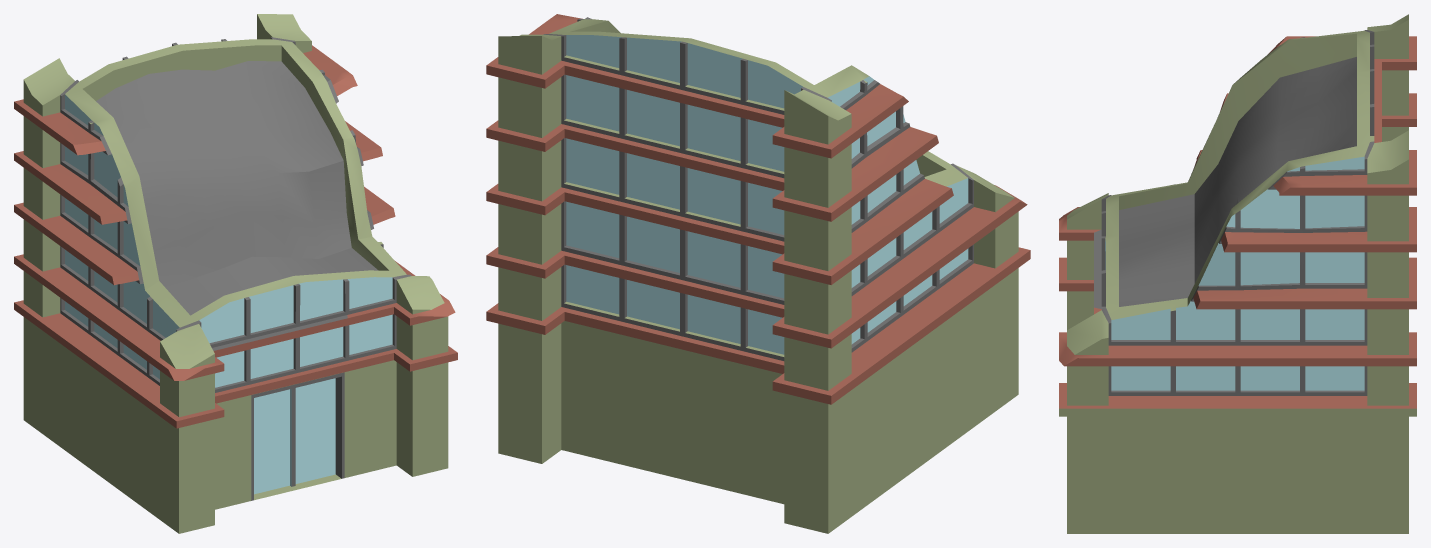
3 views of the same model, side by side, from view 1: azimuth 30°, elevation 25°; view 2: azimuth 150°, elevation 25°; view 3: azimuth 270°, elevation 25° (orthographic). The views are drawn at different scales.
Visible parts, largest first — view 1: Cube.004; view 2: Cube.004; view 3: Cube.004.
Part boxes in pixels (x1,y1,x2,y2): Cube.004: (14, 14, 457, 533); Cube.004: (486, 14, 1030, 533); Cube.004: (1059, 14, 1416, 533).
Size of the model in its own units: 209 by 253 by 209.
